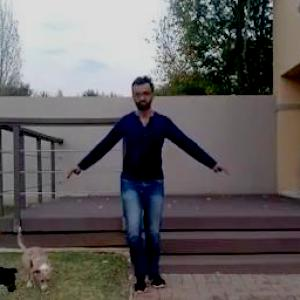land: (70, 84, 236, 272)
